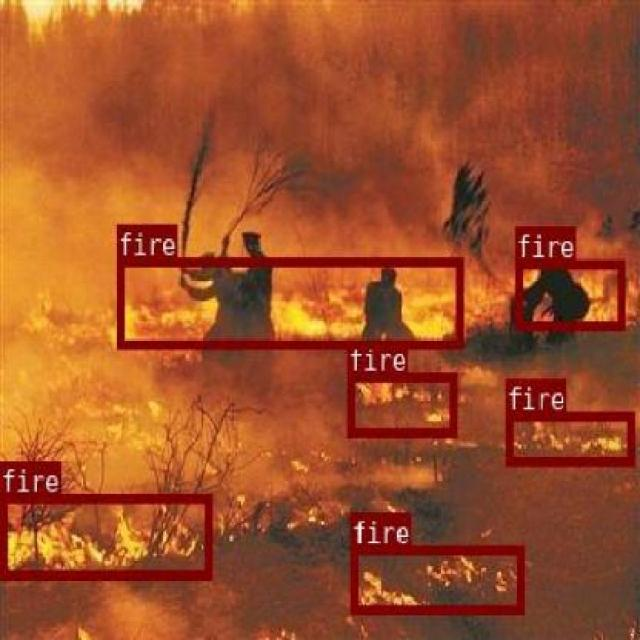fire: (116, 257, 462, 346), (0, 492, 211, 577), (350, 544, 522, 612), (515, 258, 623, 329), (346, 372, 456, 436), (505, 411, 633, 464)
